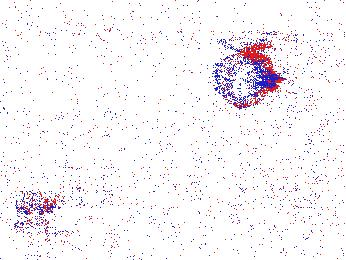flame jellyfish: (213, 52, 285, 109), (50, 162, 114, 220), (1, 163, 49, 216)
